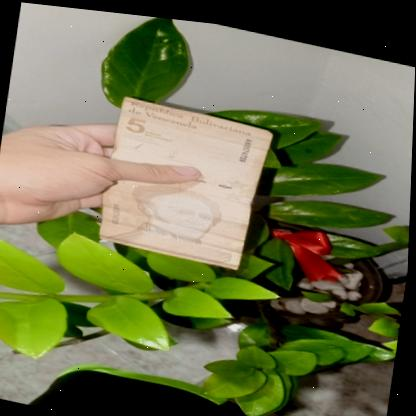five-front-vef: (98, 90, 275, 269)
